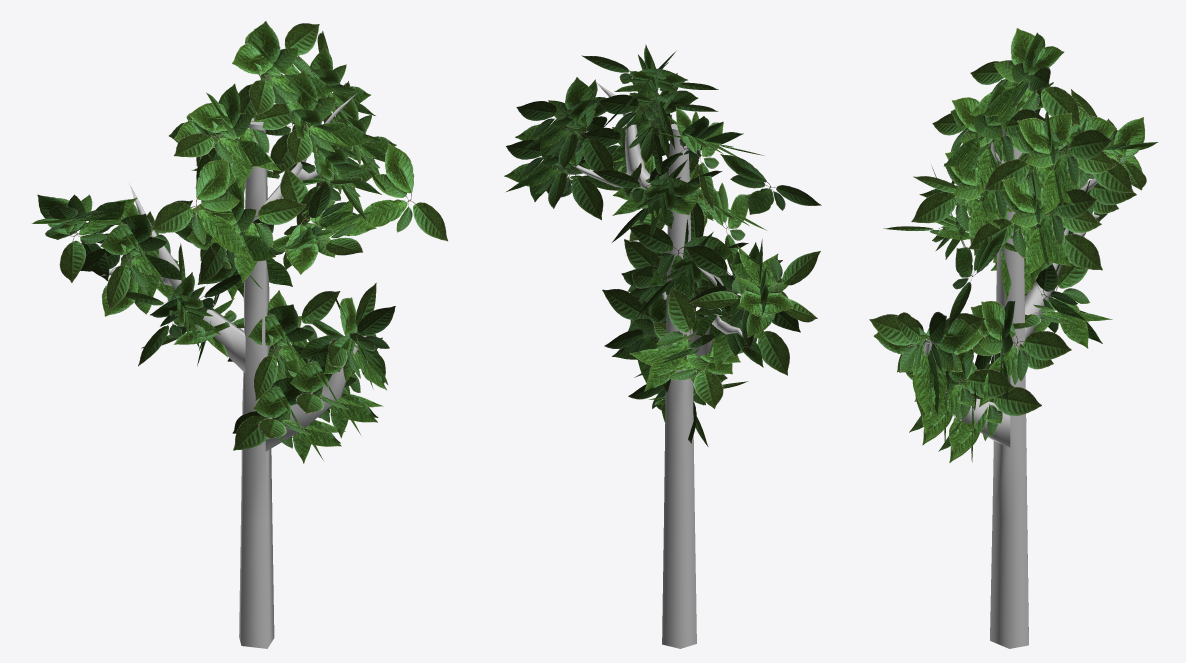
The model's file is tree.FBX.
3 views of the same model, side by side, from view 1: azimuth 30°, elevation 25°; view 2: azimuth 150°, elevation 25°; view 3: azimuth 270°, elevation 25° (orthographic). The views are drawn at different scales.
Visible parts, largest first — view 1: Plane050, Plane002; view 2: Plane050, Plane002; view 3: Plane050, Plane002.
Part boxes in pixels (bbox=[...]): Plane050: bbox=[31, 21, 448, 463]; Plane002: bbox=[101, 91, 366, 648]; Plane050: bbox=[504, 44, 821, 446]; Plane002: bbox=[572, 82, 742, 648]; Plane050: bbox=[869, 28, 1158, 463]; Plane002: bbox=[923, 108, 1123, 648].
Bounding box in the file's own units: 91.27 × 151 × 67.18.
